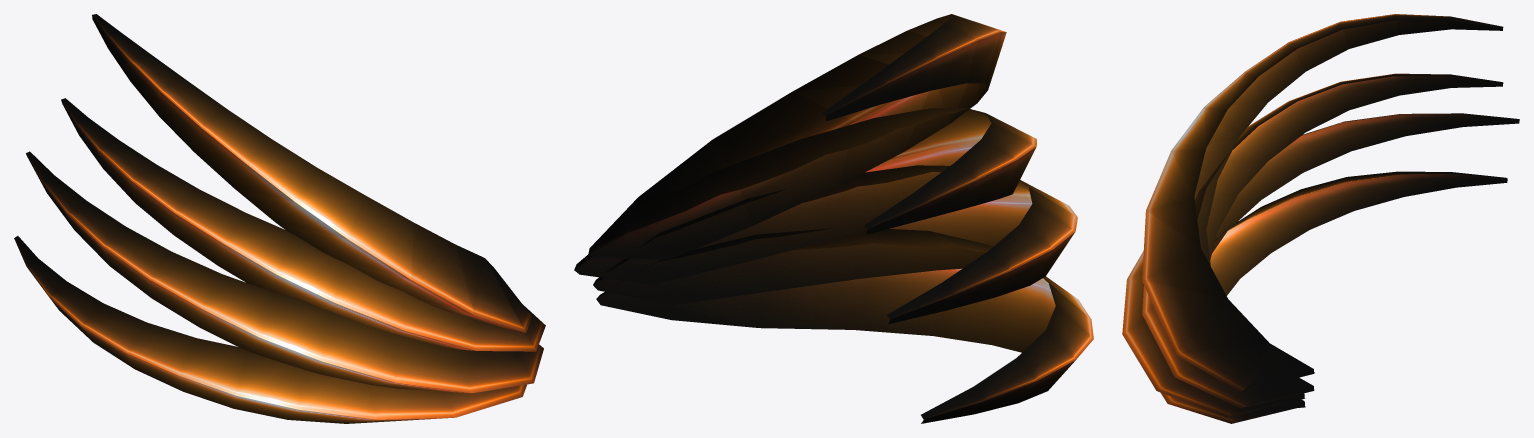
The model's file is zhua.FBX.
The picture shows the model from 3 angles, left to right: view 1: azimuth 30°, elevation 25°; view 2: azimuth 150°, elevation 25°; view 3: azimuth 270°, elevation 25°; orthographic projection. The views are drawn at different scales.
Visible parts, largest first — view 1: model_3_attack1; view 2: model_3_attack1; view 3: model_3_attack1.
Part boxes in pixels (<box>): model_3_attack1: <box>14,14,545,423</box>; model_3_attack1: <box>574,14,1093,423</box>; model_3_attack1: <box>1122,14,1519,423</box>.
Bounding box in the file's own units: 491 × 373 × 465.
